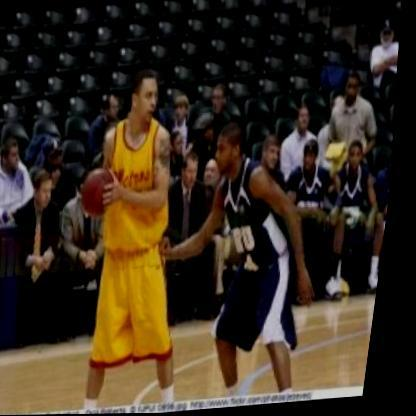basketball: (71, 162, 133, 218)
